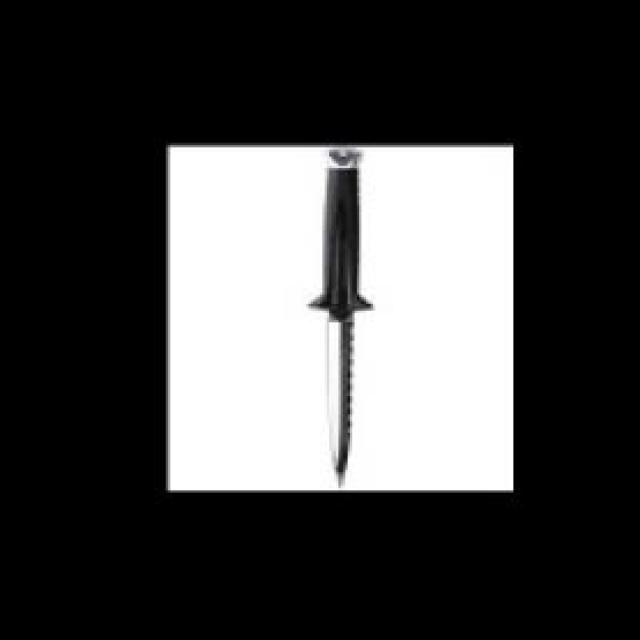knife: (319, 145, 377, 495)
